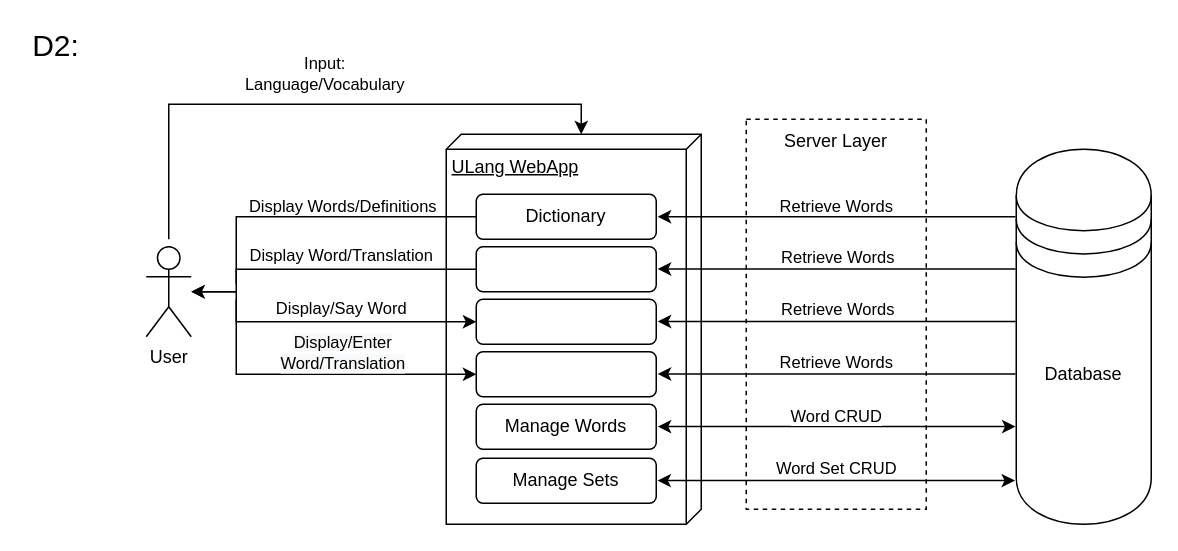
Some shapes in this 1178 by 551 pixel diagram are drawn without their labels. The shapes that lost their labels are listed below. From the top down, each one's centre as x and y in pixels, then its label:
At [565,268]: "Flash Cards".
At [565,321]: "Practice Pronunciation".
At [565,373]: "Translation Practice".
